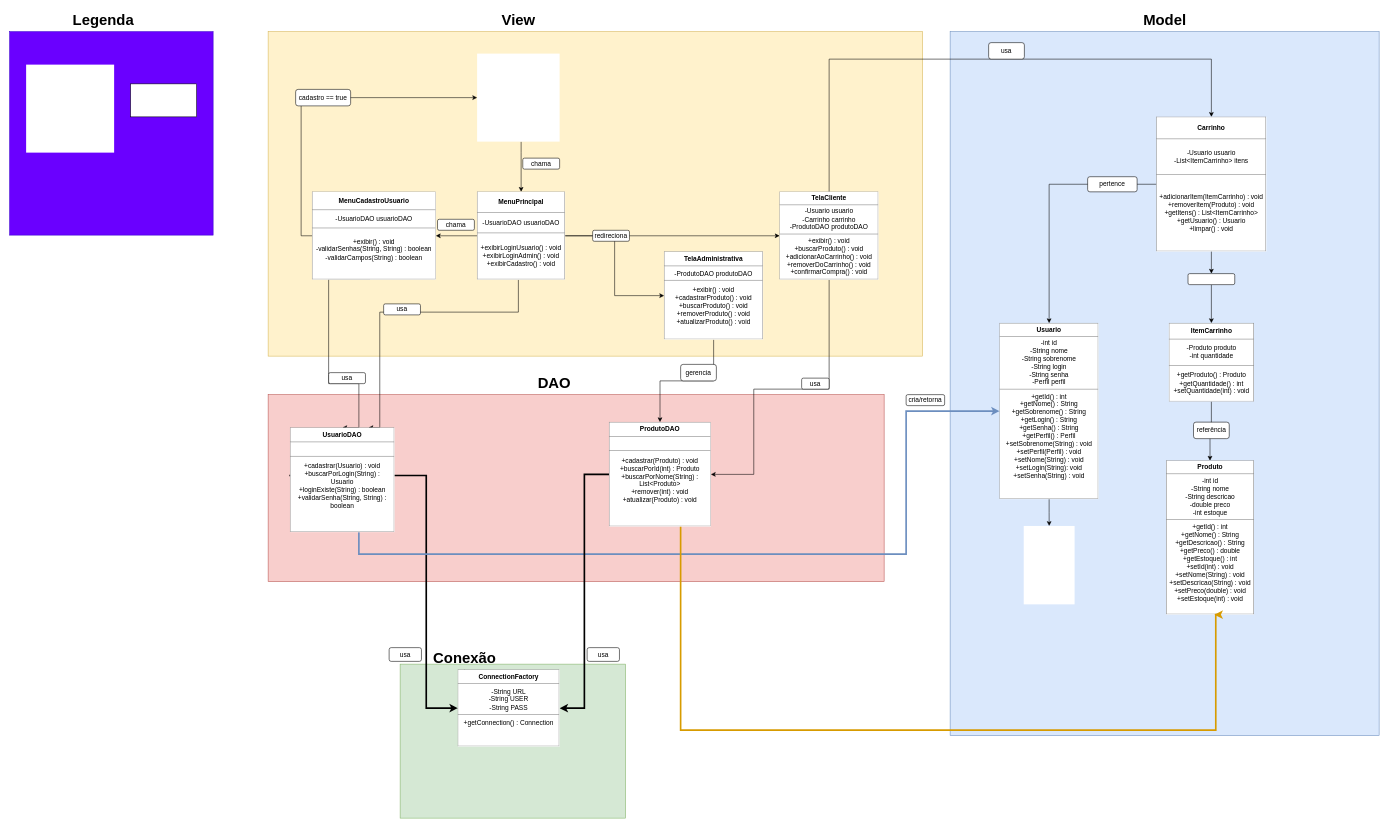
This 1389x828 diagram has some shape labels left out. Here are the shapes that lost their labels. From the top down, the centre of each, then its label:
At pixel 70 108: "Nome da Classe Atributos Métodos".
At pixel 163 100: "- privado + público".
At pixel 518 97: "Main exibir() : void".
At pixel 1211 279: "contém".
At pixel 1048 565: "« enumeration » Perfil USER ADMIN".
